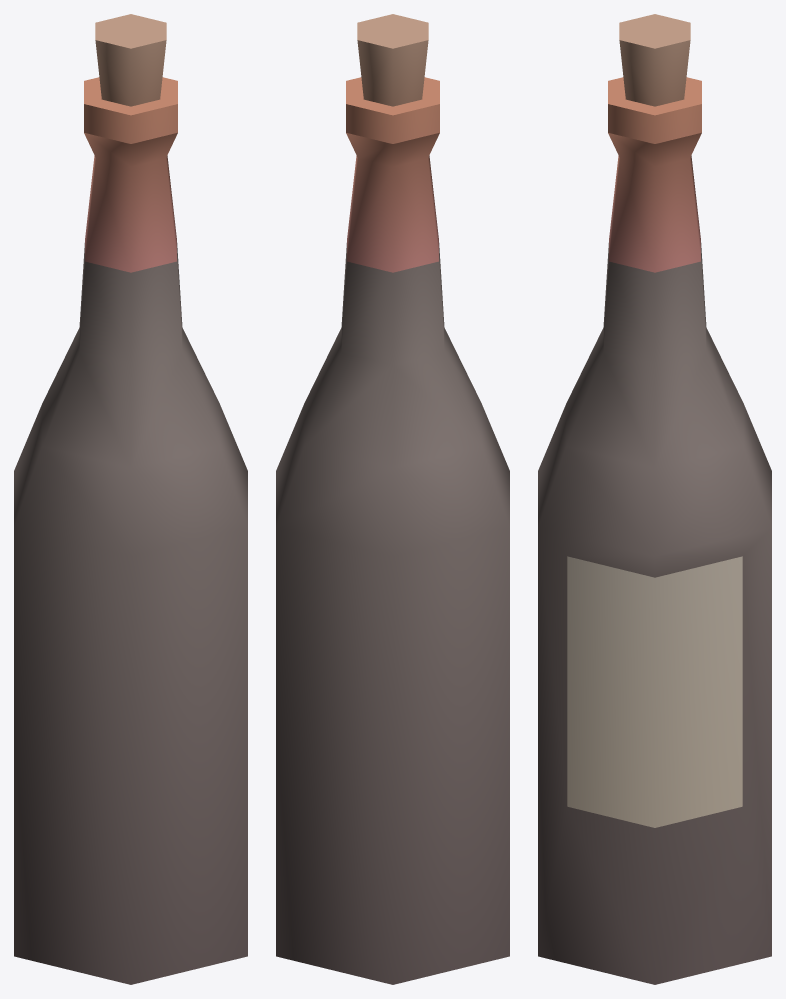
The model's file is wine-red.glb.
The picture shows the model from 3 angles, left to right: view 1: azimuth 30°, elevation 25°; view 2: azimuth 150°, elevation 25°; view 3: azimuth 270°, elevation 25°; orthographic projection.
Visible parts, largest first — view 1: wine-red; view 2: wine-red; view 3: wine-red.
Part boxes in pixels (box(x1,y1,x2,y2)): wine-red: box(14, 14, 247, 984); wine-red: box(276, 14, 509, 984); wine-red: box(538, 14, 771, 984).
Bounding box in the file's own units: 0.1908 × 0.6989 × 0.1652.
